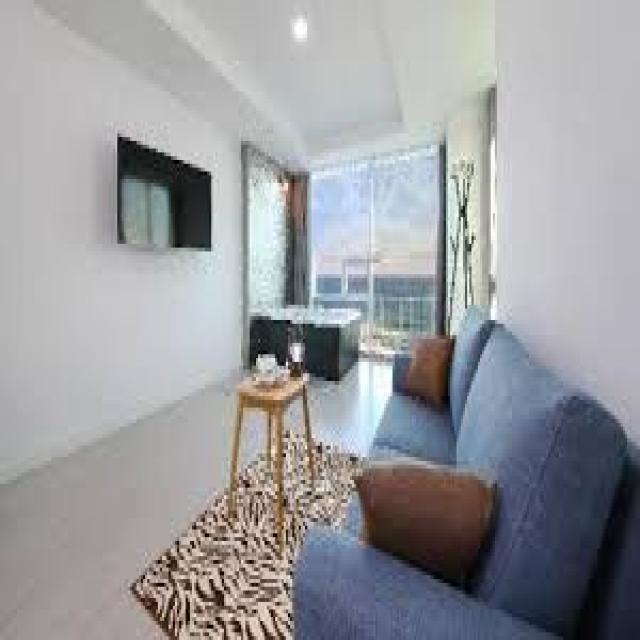Sofa: (328, 308, 636, 640)
Table: (232, 362, 316, 547)
tv: (118, 132, 218, 260)
window: (305, 170, 436, 352)
